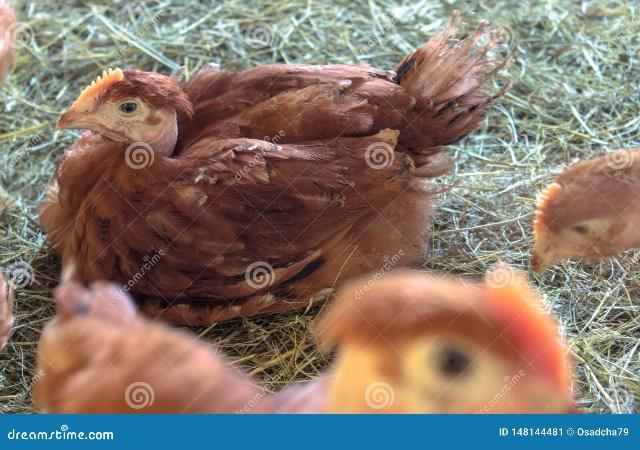Chicken: (43, 7, 509, 326), (531, 148, 640, 277)
